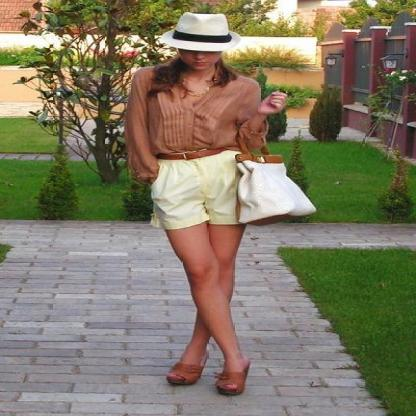bag: (150, 141, 315, 227)
hat: (155, 12, 245, 58)
shirt: (114, 66, 272, 182)
shoe: (166, 358, 249, 397)
shorts: (138, 150, 240, 238)
